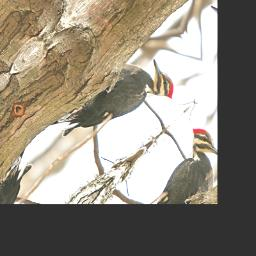Woodpecker: (49, 37, 181, 179)
